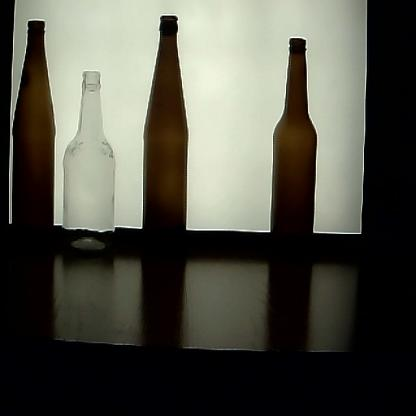Can: (139, 12, 195, 266), (264, 37, 321, 273), (12, 17, 58, 266), (61, 71, 119, 268)
